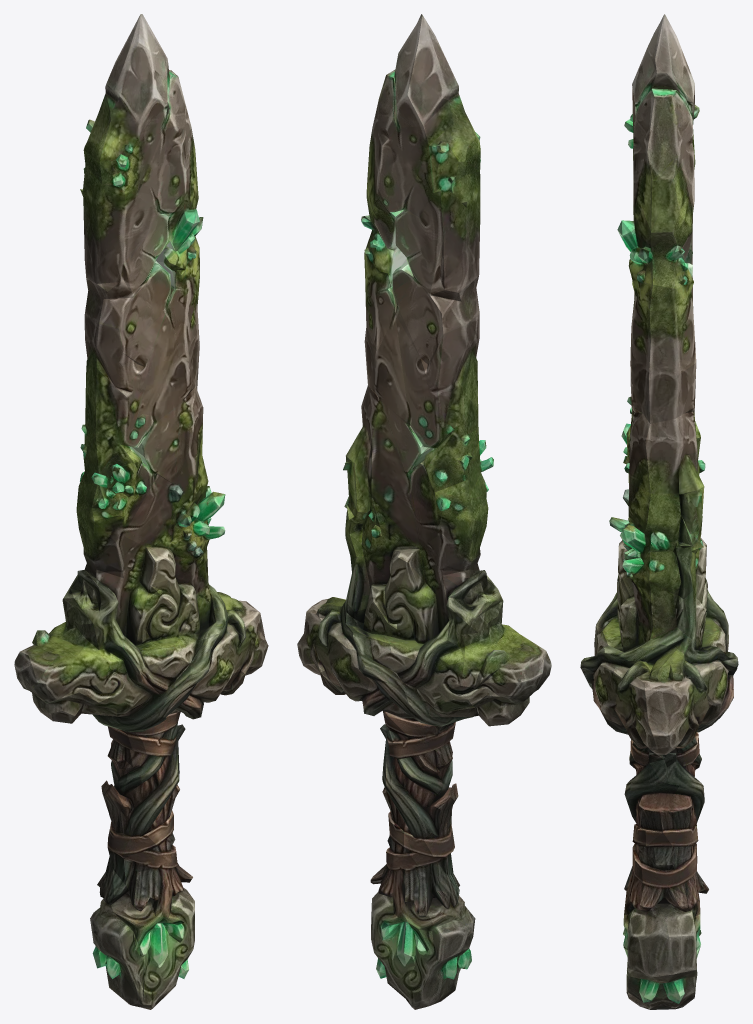
Rendered from epee_terre.glb.
3 renders of one model, left to right at view 1: azimuth 30°, elevation 25°; view 2: azimuth 150°, elevation 25°; view 3: azimuth 270°, elevation 25°, orthographic.
Bounding box in the file's own units: 0.4892 × 1.9 × 0.2742.
1 material, 1 textured.
